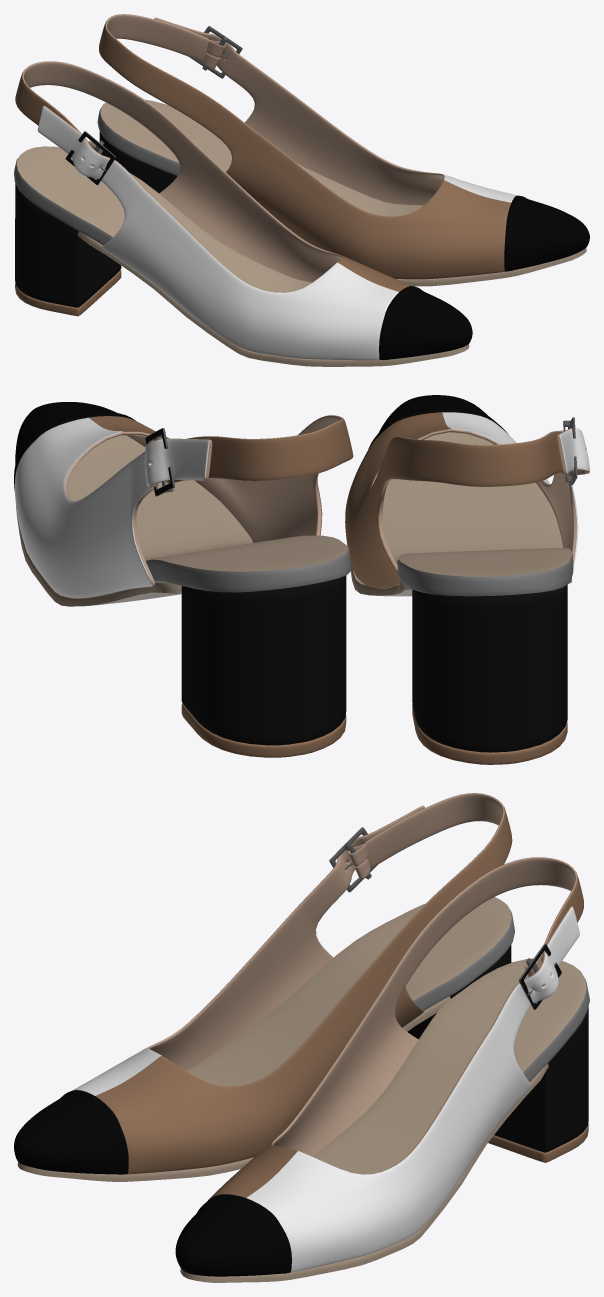
File: Woman_shoes.fbx
The picture shows the model from 3 angles, top to bottom: view 1: azimuth 30°, elevation 25°; view 2: azimuth 150°, elevation 25°; view 3: azimuth 270°, elevation 25°; orthographic projection. The views are drawn at different scales.
Parts seen in each view (by area): view 1: Woman_shoes_ti_01; view 2: Woman_shoes_ti_01; view 3: Woman_shoes_ti_01.
Part boxes in pixels (left/top/right/bottom): Woman_shoes_ti_01: left=14, top=14, right=589, bottom=366; Woman_shoes_ti_01: left=14, top=395, right=589, bottom=764; Woman_shoes_ti_01: left=14, top=793, right=589, bottom=1282.
Size of the model in its own units: 9.71 by 4.31 by 8.84.
